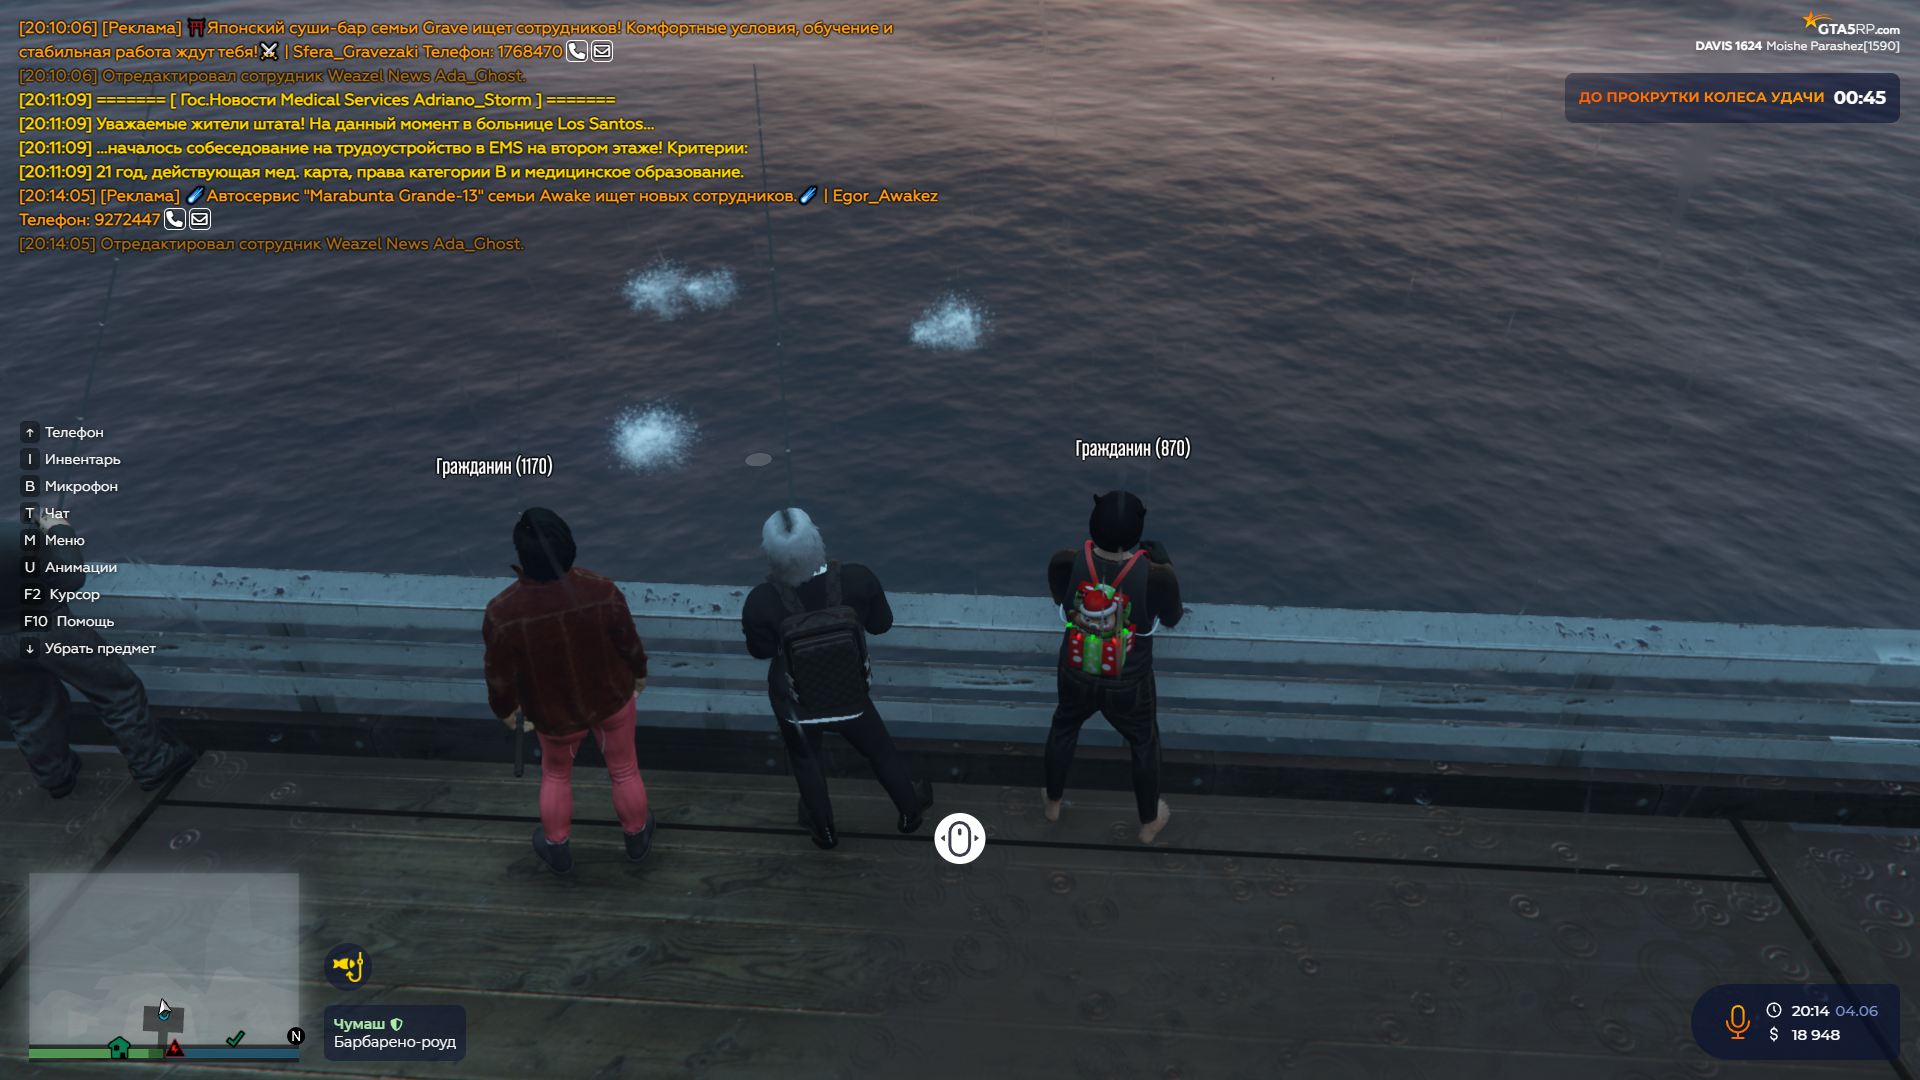circle: (744, 452, 773, 467)
